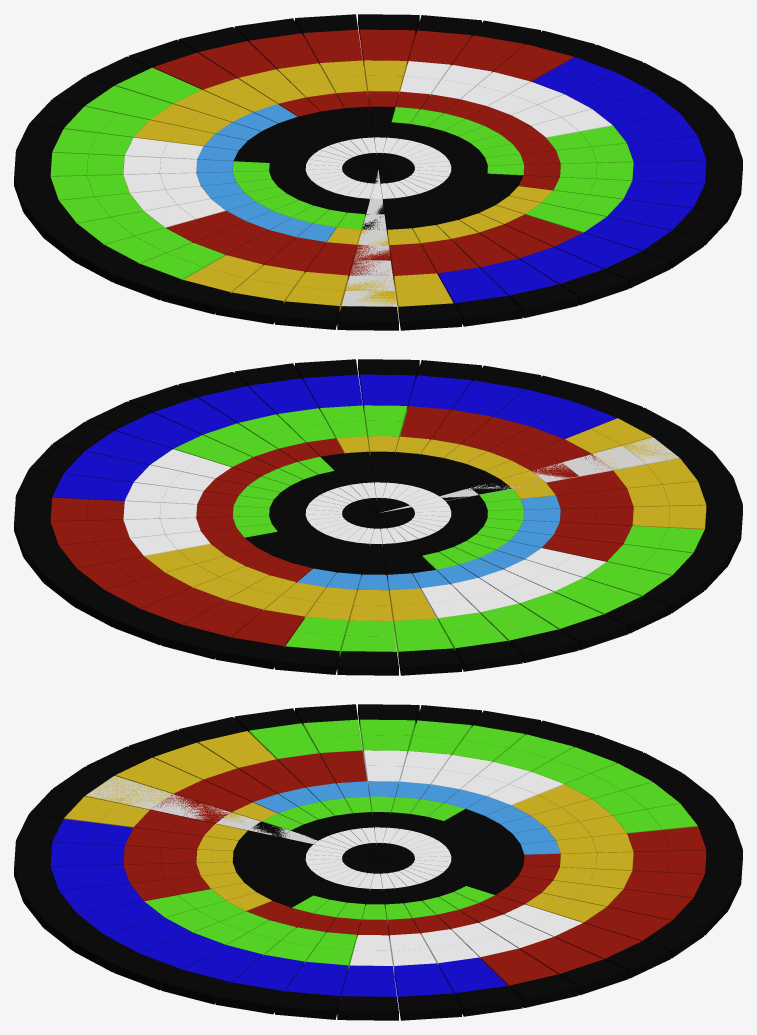
File: Bullseye.fbx
3 renders of one model, top to bottom at view 1: azimuth 30°, elevation 25°; view 2: azimuth 150°, elevation 25°; view 3: azimuth 270°, elevation 25°, orthographic.
Visible parts, largest first — view 1: Object019, Object359, Object349, Object029, Object339, Object001, Object039, Object329, Object049, Object319, Object059, Object309 (+167 smaller); view 2: Object119, Object139, Object129, Object109, Object149, Object099, Object159, Object089, Object169, Object079, Object179, Object069 (+169 smaller); view 3: Object239, Object259, Object249, Object229, Object269, Object219, Object279, Object209, Object289, Object199, Object299, Object189 (+170 smaller).
Part boxes in pixels (<box>): Object019: <box>275,301,339,329</box>; Object359: <box>398,303,461,330</box>; Object349: <box>455,296,522,326</box>; Object029: <box>215,292,283,324</box>; Object339: <box>509,284,578,317</box>; Object001: <box>337,306,398,330</box>; Object039: <box>161,280,230,314</box>; Object329: <box>560,269,628,305</box>; Object049: <box>113,264,181,300</box>; Object319: <box>605,251,670,288</box>; Object059: <box>74,245,138,282</box>; Object309: <box>643,231,704,268</box>; Object119: <box>398,648,461,675</box>; Object139: <box>275,646,339,674</box>; Object129: <box>337,651,398,675</box>; Object109: <box>455,641,522,671</box>; Object149: <box>215,637,283,669</box>; Object099: <box>509,629,578,662</box>; Object159: <box>161,625,230,659</box>; Object089: <box>560,614,628,650</box>; Object169: <box>113,609,181,645</box>; Object079: <box>605,596,670,633</box>; Object179: <box>74,590,138,627</box>; Object069: <box>643,576,704,613</box>; Object239: <box>398,993,461,1020</box>; Object259: <box>275,991,339,1019</box>; Object249: <box>337,996,398,1020</box>; Object229: <box>455,986,522,1016</box>; Object269: <box>215,982,283,1014</box>; Object219: <box>509,974,578,1007</box>; Object279: <box>161,970,230,1004</box>; Object209: <box>560,959,628,995</box>; Object289: <box>113,954,181,990</box>; Object199: <box>605,941,670,978</box>; Object299: <box>74,935,138,972</box>; Object189: <box>643,921,704,958</box>.
Bounding box in the file's own units: 131 × 1.7 × 131.
